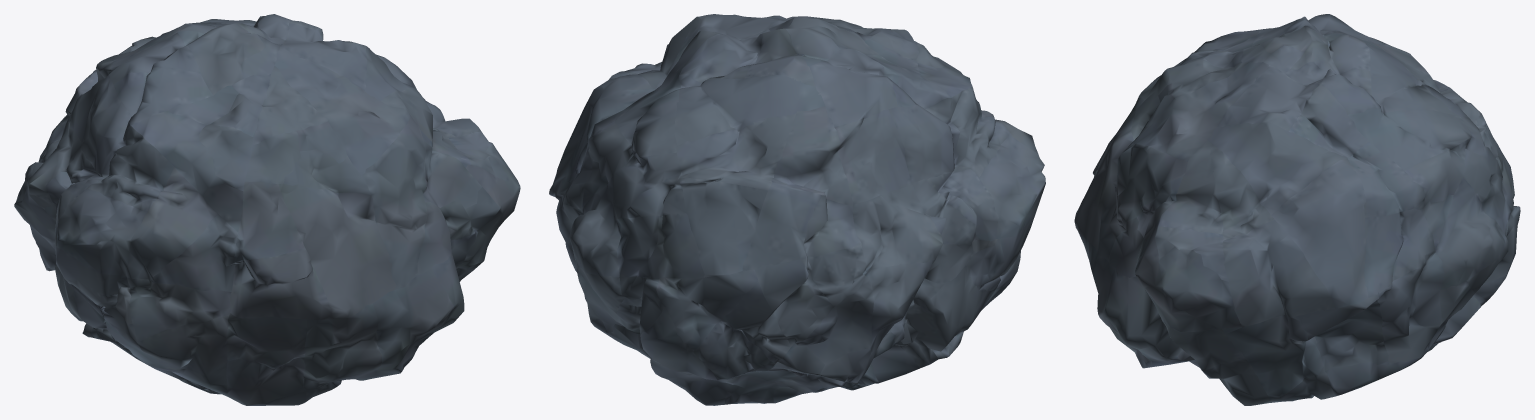
The model's file is boulder-2.glb.
The picture shows the model from 3 angles, left to right: view 1: azimuth 30°, elevation 25°; view 2: azimuth 150°, elevation 25°; view 3: azimuth 270°, elevation 25°; orthographic projection. The views are drawn at different scales.
Parts seen in each view (by area): view 1: mesh_node; view 2: mesh_node; view 3: mesh_node.
Part boxes in pixels (<box>): mesh_node: <box>14,14,520,405</box>; mesh_node: <box>549,14,1045,405</box>; mesh_node: <box>1074,14,1520,405</box>.
Bounding box in the file's own units: 1.9 × 1.52 × 1.83.
Materials: 1 (1 with a texture image).
